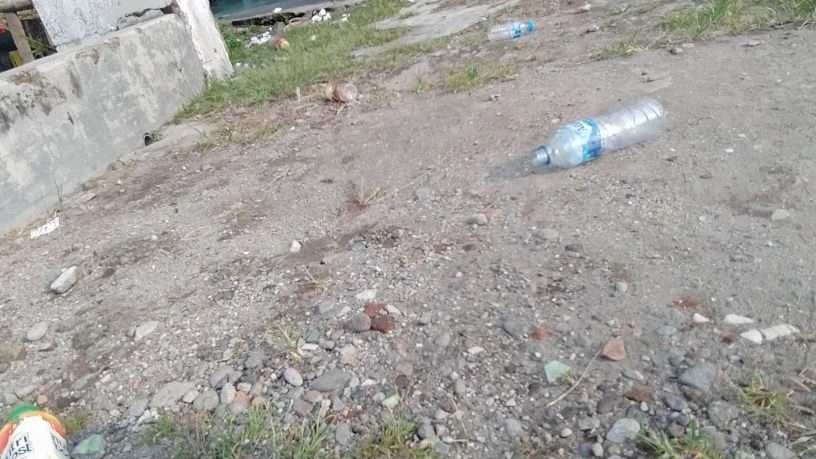botol: (528, 96, 683, 168), (9, 377, 78, 459), (472, 11, 523, 41)
